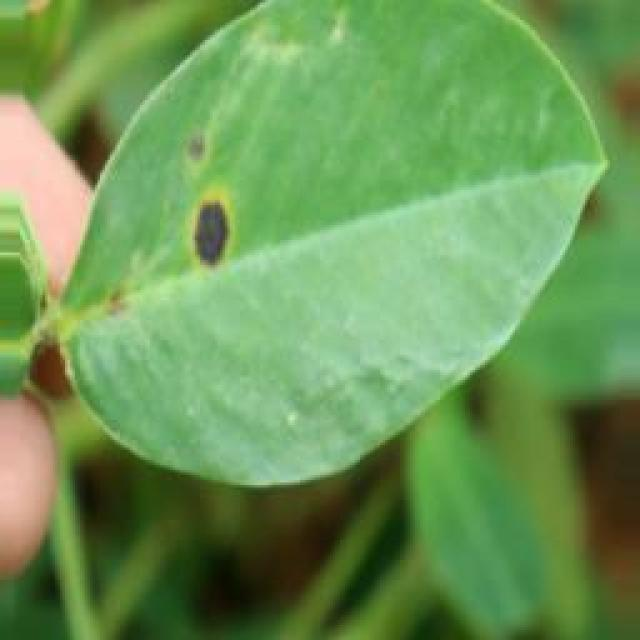Sigatoka: (148, 117, 270, 292), (78, 274, 160, 335)
